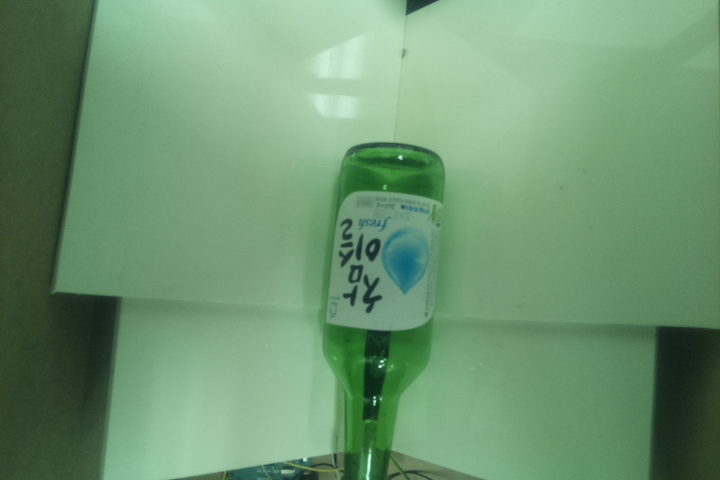soju: (318, 138, 446, 480)
